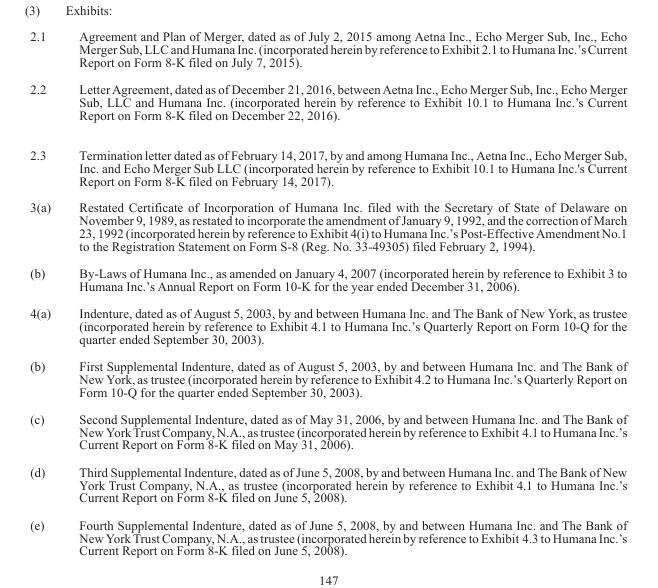table: (29, 28, 626, 557)
table column: (64, 28, 626, 557), (29, 28, 64, 557)
table row: (29, 193, 626, 258), (29, 75, 626, 134), (29, 134, 626, 193), (29, 298, 626, 351), (29, 351, 626, 404), (29, 404, 626, 457), (29, 457, 626, 510), (29, 28, 626, 75), (29, 510, 626, 557), (29, 258, 626, 298)
